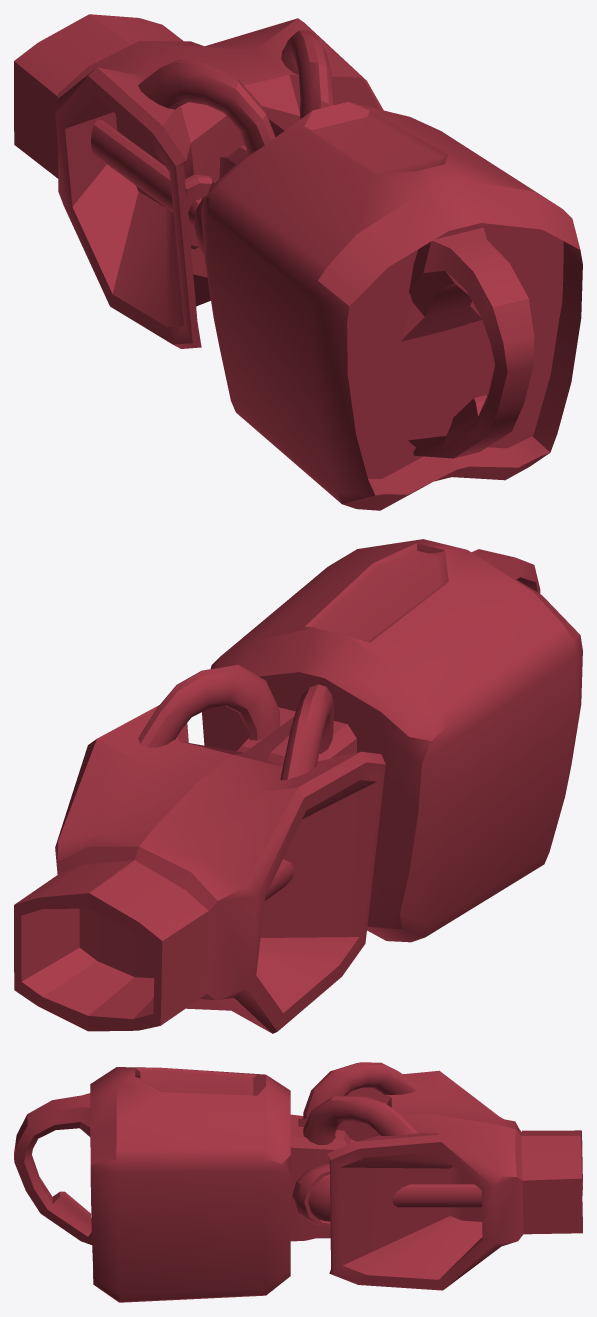
The model's file is VacuumGun.fbx.
3 renders of one model, top to bottom at view 1: azimuth 30°, elevation 25°; view 2: azimuth 150°, elevation 25°; view 3: azimuth 270°, elevation 25°, orthographic. The views are drawn at different scales.
Visible parts, largest first — view 1: VacuumGun; view 2: VacuumGun; view 3: VacuumGun.
Part boxes in pixels (box(x1,y1,x2,y2)): VacuumGun: box(14, 14, 582, 510); VacuumGun: box(14, 539, 582, 1033); VacuumGun: box(14, 1062, 582, 1302).
Bounding box in the file's own units: 0.148 × 0.17 × 0.422.
